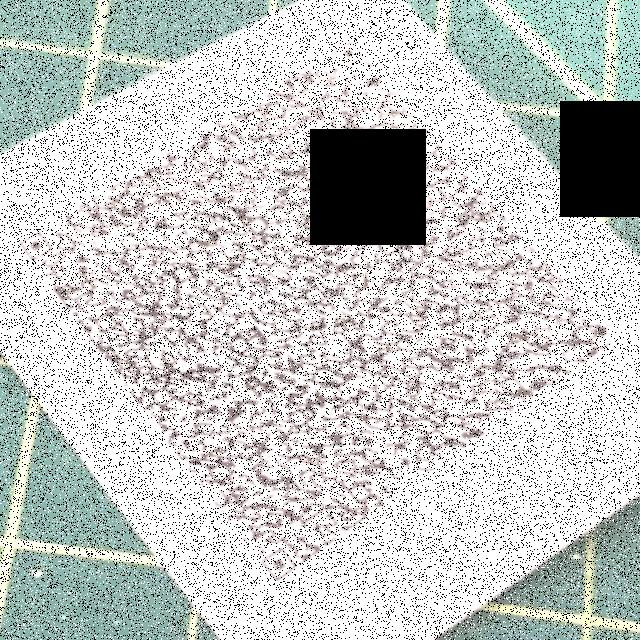QR_CODE: (9, 29, 628, 590)
